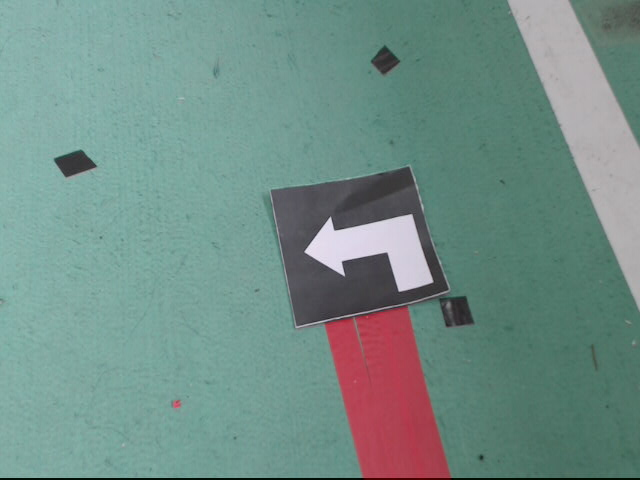left: (269, 164, 452, 330)
